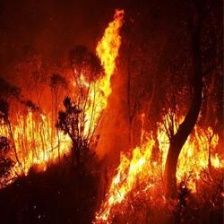fire: (92, 113, 223, 223), (82, 7, 128, 140), (1, 110, 71, 166)
